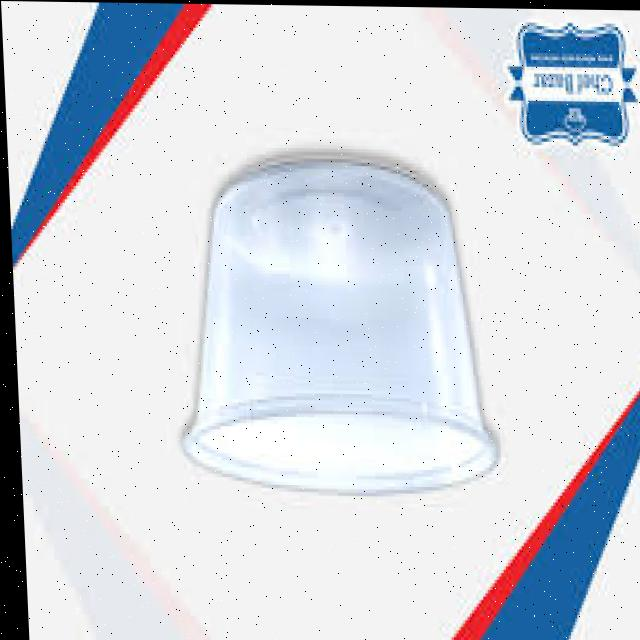disposable: (161, 138, 487, 513)
